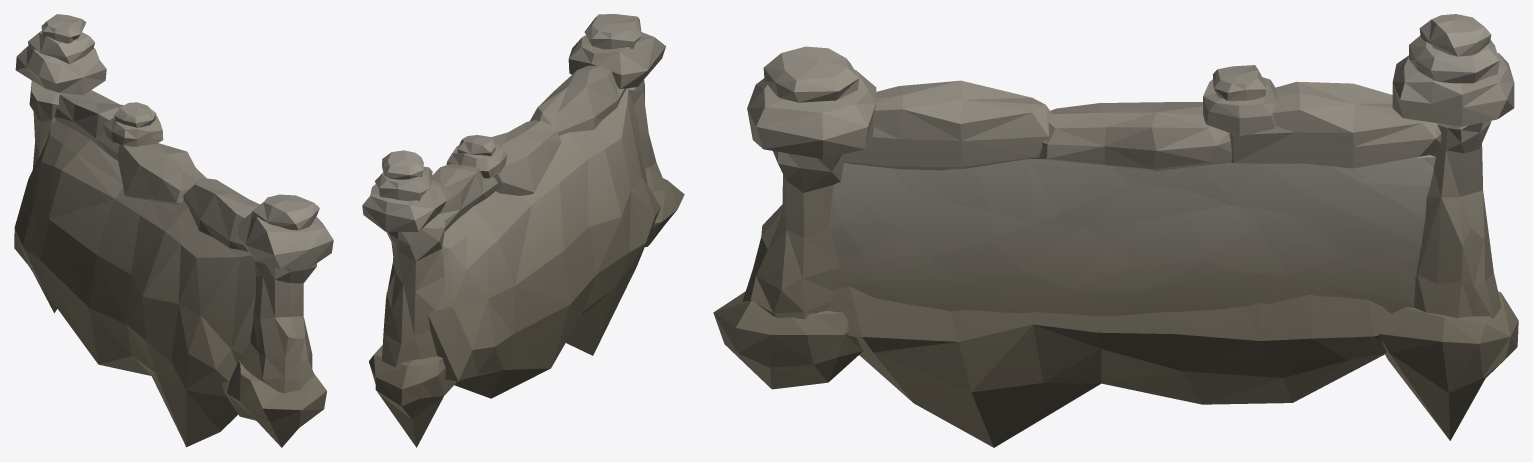
Rendered from wall_Desert_frame 1.fbx.
3 views of the same model, side by side, from view 1: azimuth 30°, elevation 25°; view 2: azimuth 150°, elevation 25°; view 3: azimuth 270°, elevation 25° (orthographic). The views are drawn at different scales.
Visible parts, largest first — view 1: wall_frame_desert; view 2: wall_frame_desert; view 3: wall_frame_desert, wall_clean.
Boxes of the visible parts, bbox=[...] form: wall_frame_desert: bbox=[14, 14, 333, 447]; wall_frame_desert: bbox=[362, 14, 684, 447]; wall_frame_desert: bbox=[713, 14, 1518, 447]; wall_clean: bbox=[830, 155, 1435, 316].
Bounding box in the file's own units: 1599 × 3996 × 6448.
